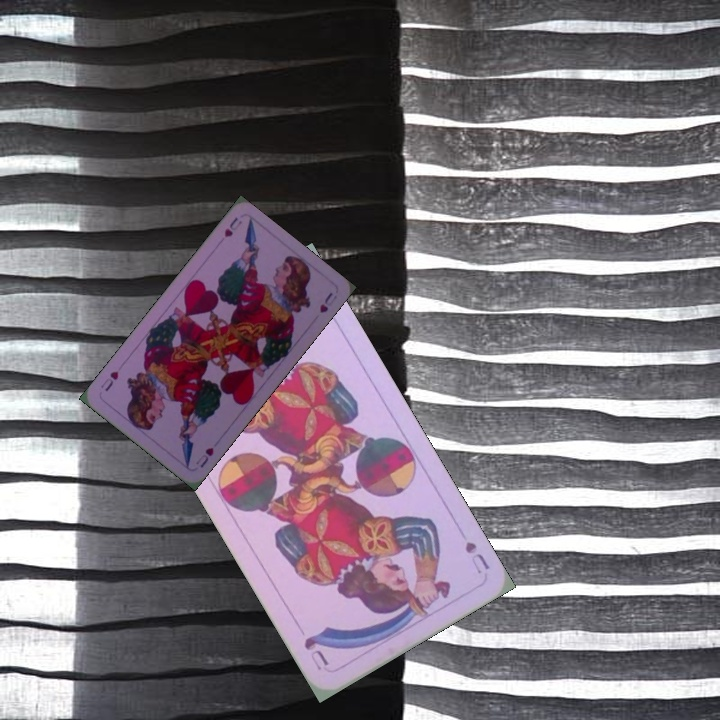HU: (192, 443, 216, 470), (220, 213, 244, 240)
SU: (461, 537, 492, 577)
